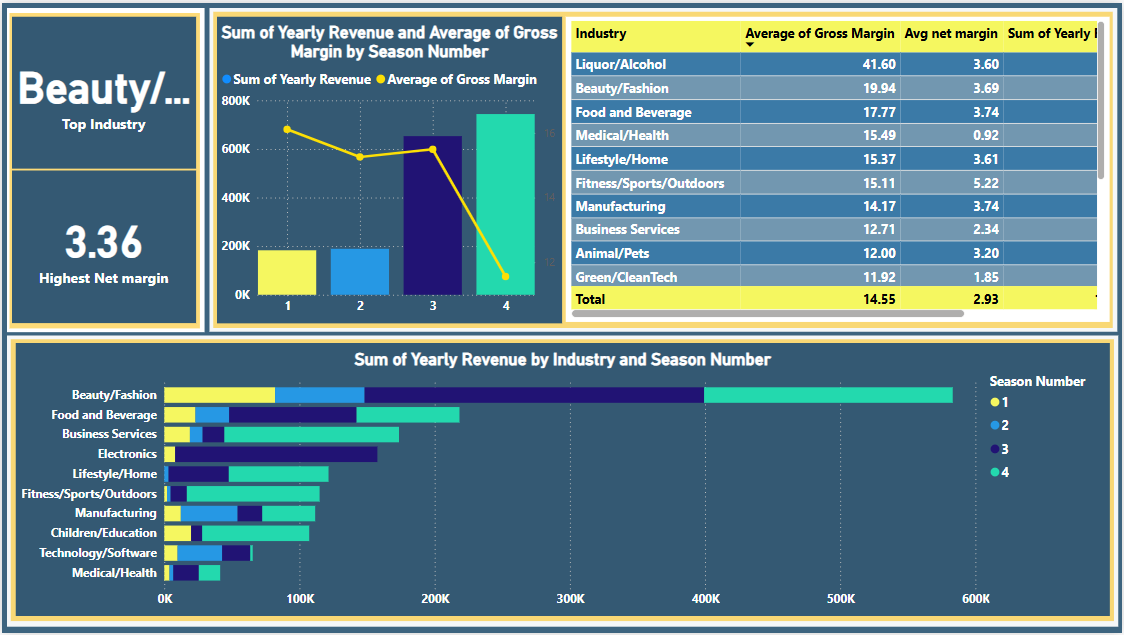

What the dashboard file says about the page in this screenshot:
{"tool":"powerbi","page":{"name":"Revenue and margin analysis","canvas":[1280,720],"ordinal":1},"visuals":[{"type":"shape","box":[5.2,5.2,225.9,370.7],"z":0},{"type":"shape","box":[8.6,11,217.6,360.5],"z":1000},{"type":"shape","box":[237.5,5,1037.5,370],"z":2000},{"type":"shape","box":[241.8,10,1028.2,361.4],"z":3000},{"type":"actionButton","box":[11.7,16.7,50,40],"z":4000},{"type":"shape","box":[5,380,1270,333.1],"z":5000},{"type":"shape","box":[10,384.2,1260.8,322.1],"z":6000},{"type":"lineClusteredColumnComboChart","fields":{"Y":["Sum(Shark Tank India (2).Yearly Revenue)"],"Category":["Shark Tank India (2).Season Number"],"Y2":["Avg(Shark Tank India (2).Gross Margin)"]},"box":[245.7,15.7,394.3,350],"z":7000},{"type":"barChart","fields":{"Y":["Sum(Shark Tank India (2).Yearly Revenue)"],"Category":["Shark Tank India (2).Industry"],"Series":["Shark Tank India (2).Season Number"]},"box":[15.6,388.1,1250,311.9],"z":8000},{"type":"card","fields":{"Values":["Shark Tank India (2).Top Industry"]},"box":[11.7,15,210,173.3],"z":9000},{"type":"card","fields":{"Values":["Shark Tank India (2).Highest Net margin"]},"box":[11.4,192.9,210,174.3],"z":10000},{"type":"tableEx","fields":{"Values":["Shark Tank India (2).Industry","Avg(Shark Tank India (2).Gross Margin)","Shark Tank India (2).Avg net margin","Sum(Shark Tank India (2).Yearly Revenue)","Shark Tank India (2).Performance score"]},"box":[645,16.2,621.2,348.8],"z":11000}]}

Visuals, with their boxes in screenshot pixels (x1, y1, x2, y2), scaled from the page's 1280x720 canvas onto the 1124x635 screenshot:
shape: bbox=[5, 5, 203, 332]
shape: bbox=[8, 10, 199, 328]
shape: bbox=[209, 4, 1120, 331]
shape: bbox=[212, 9, 1115, 328]
actionButton: bbox=[10, 15, 54, 50]
shape: bbox=[4, 335, 1120, 629]
shape: bbox=[9, 339, 1116, 623]
lineClusteredColumnComboChart - Sum(Shark Tank India (2).Yearly Revenue) x Shark Tank India (2).Season Number: bbox=[216, 14, 562, 323]
barChart - Sum(Shark Tank India (2).Yearly Revenue) x Shark Tank India (2).Industry: bbox=[14, 342, 1111, 617]
card - Shark Tank India (2).Top Industry: bbox=[10, 13, 195, 166]
card - Shark Tank India (2).Highest Net margin: bbox=[10, 170, 194, 324]
tableEx - Shark Tank India (2).Industry x Avg(Shark Tank India (2).Gross Margin): bbox=[566, 14, 1112, 322]
